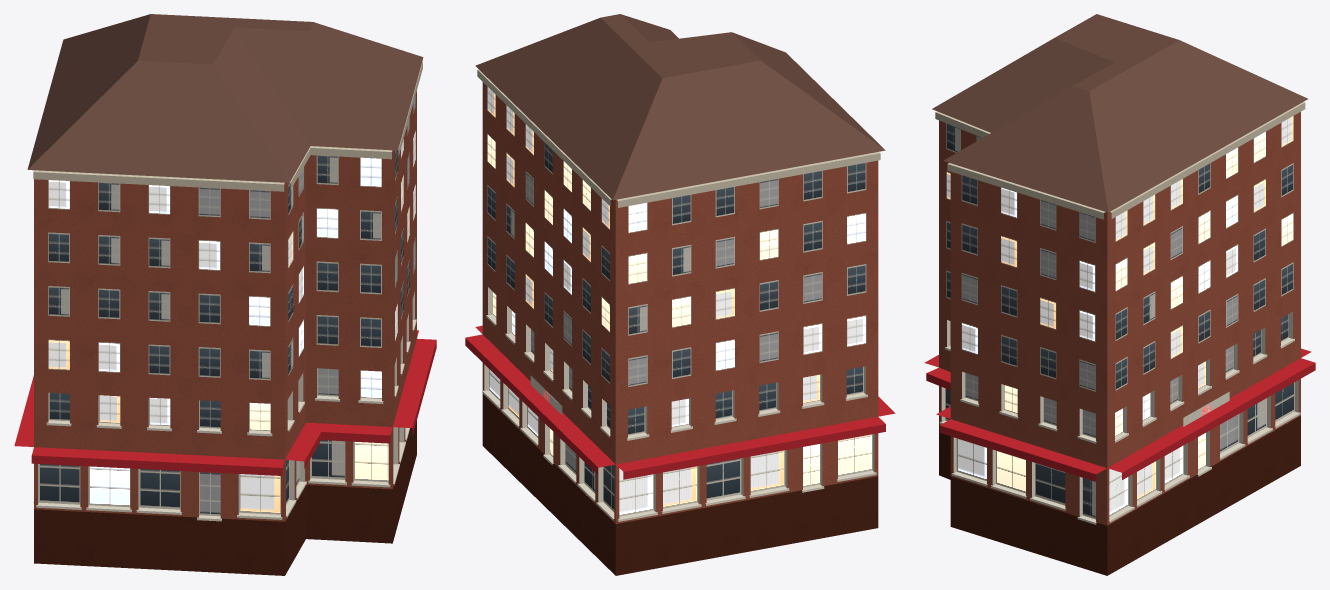
Rendered from langB_rossi.glb.
3 views of the same model, side by side, from view 1: azimuth 30°, elevation 25°; view 2: azimuth 150°, elevation 25°; view 3: azimuth 270°, elevation 25° (orthographic). The views are drawn at different scales.
Parts seen in each view (by area): view 1: langB_rossi; view 2: langB_rossi; view 3: langB_rossi.
Part boxes in pixels (x1,y1,x2,y2): langB_rossi: (14, 14, 436, 575); langB_rossi: (465, 14, 895, 575); langB_rossi: (924, 14, 1315, 575).
Size of the model in its own units: 24.69 by 25.93 by 21.22.
Materials: 3 (3 with a texture image).
